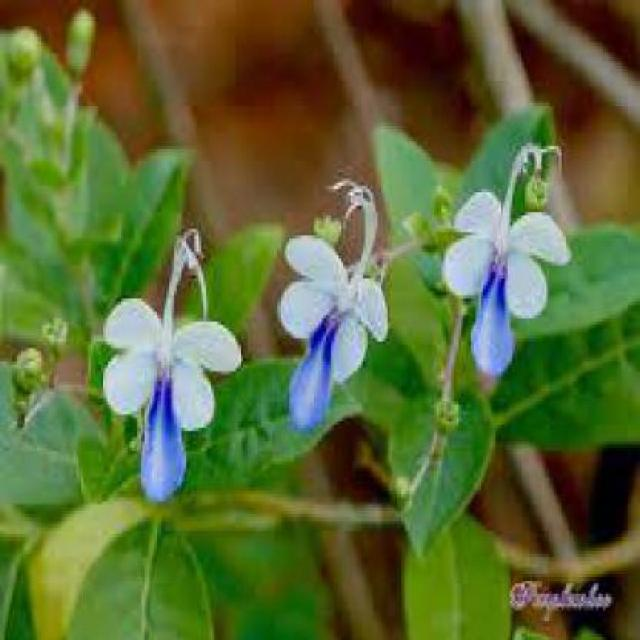flower: (258, 177, 397, 443), (94, 241, 235, 496), (448, 137, 568, 406)
